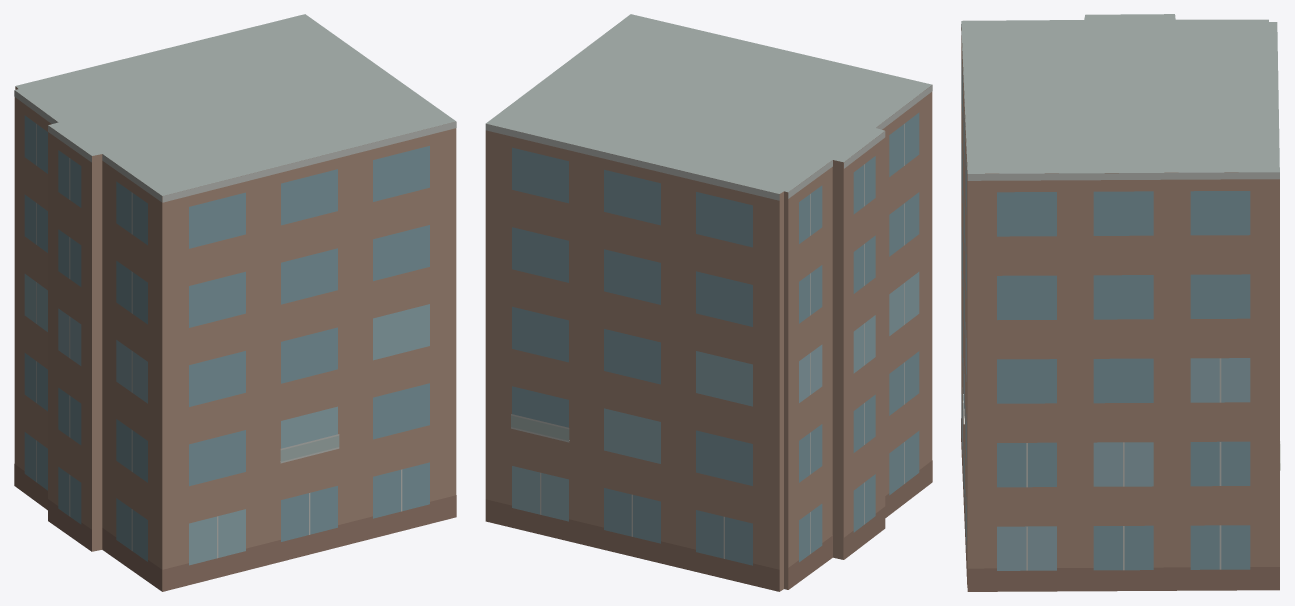
File: survey-upis-32520484.glb
The picture shows the model from 3 angles, left to right: view 1: azimuth 30°, elevation 25°; view 2: azimuth 150°, elevation 25°; view 3: azimuth 270°, elevation 25°; orthographic projection. The views are drawn at different scales.
Parts seen in each view (by area): view 1: survey-upis-32520484.tmp; view 2: survey-upis-32520484.tmp; view 3: survey-upis-32520484.tmp.
Boxes of the visible parts, x1=… form: survey-upis-32520484.tmp: x1=14, y1=14, x2=456, y2=591; survey-upis-32520484.tmp: x1=485, y1=14, x2=932, y2=591; survey-upis-32520484.tmp: x1=961, y1=14, x2=1280, y2=591.
Size of the model in its own units: 11.94 by 14.54 by 10.09.
